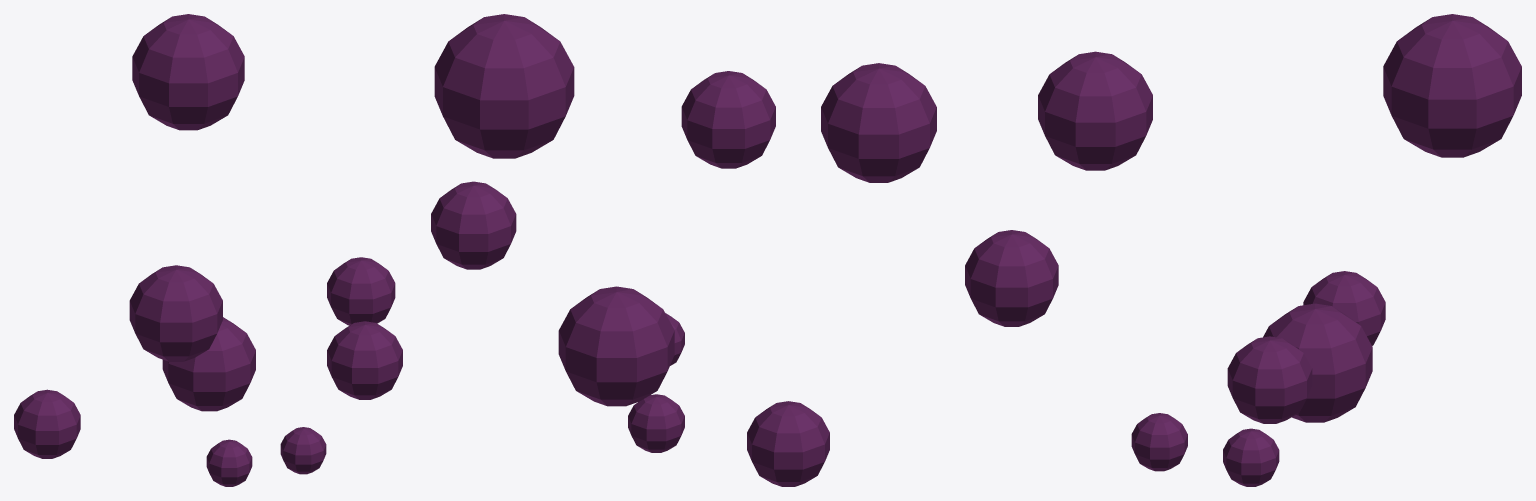
File: Bubbles.fbx
3 renders of one model, left to right at view 1: azimuth 30°, elevation 25°; view 2: azimuth 150°, elevation 25°; view 3: azimuth 270°, elevation 25°, orthographic. The views are drawn at different scales.
Visible parts, largest first — view 1: Bubbles; view 2: Bubbles; view 3: Bubbles.
Boxes of the visible parts, x1=… form: Bubbles: x1=14, y1=14, x2=402, y2=486; Bubbles: x1=431, y1=14, x2=936, y2=486; Bubbles: x1=965, y1=14, x2=1521, y2=486.
Bounding box in the file's own units: 1.22 × 1.35 × 1.39.
